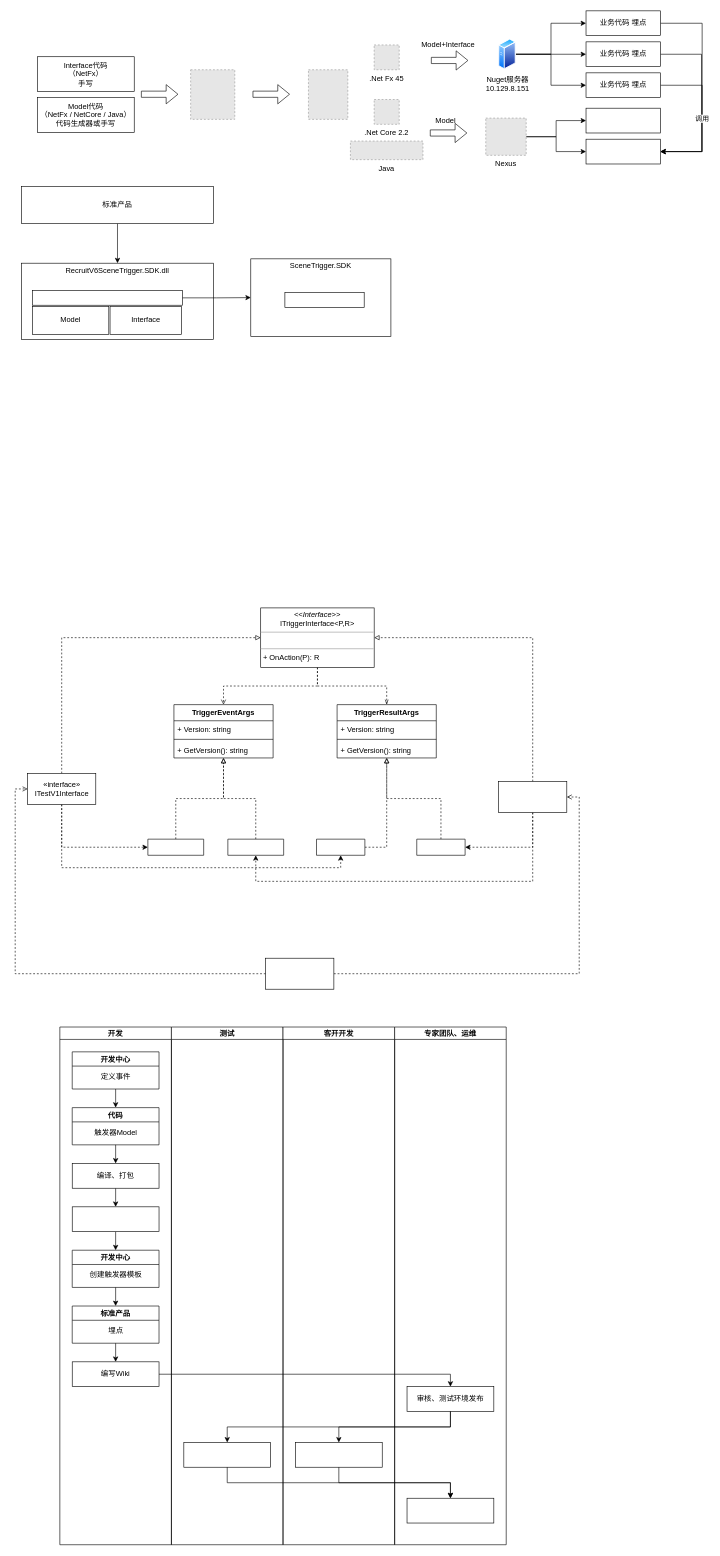
Image size: 720x1556. Some labels were removed from this diagram. Grey dashed boxes stand in for pictures. The shapes that lost their labels are listed below. From the top down, each one's centre as x and y in pixels, then its label:
At [622,120]: "事件注册 触发器 模板编译".
At [622,151]: "触发器 执行".
At [107,297]: "获取版本、执行".
At [324,299]: "执行客开触发器代码".
At [532,797]: "«interface» ITestV2Interface".
At [175,847]: "ArgsV1".
At [255,847]: "ArgsV2".
At [340,847]: "ResultV1".
At [440,847]: "ResultV2".
At [299,973]: "标准产品流程".
At [115,1219]: "推送到Nexus仓库".
At [227,1454]: "流程功能正常".
At [338,1454]: "埋点正常".
At [450,1510]: "审核、Labs/线上发布".
